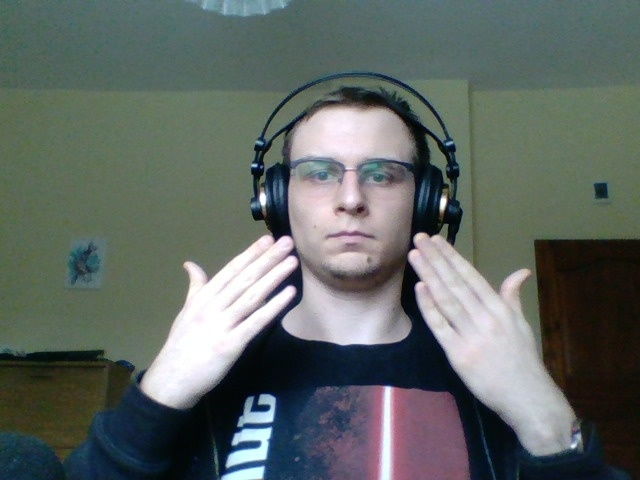thanks: (127, 220, 600, 462)
